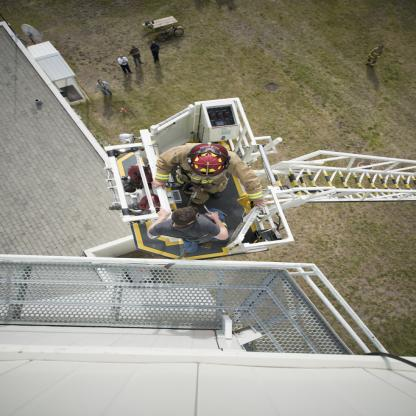Helmet: (184, 145, 230, 178)
